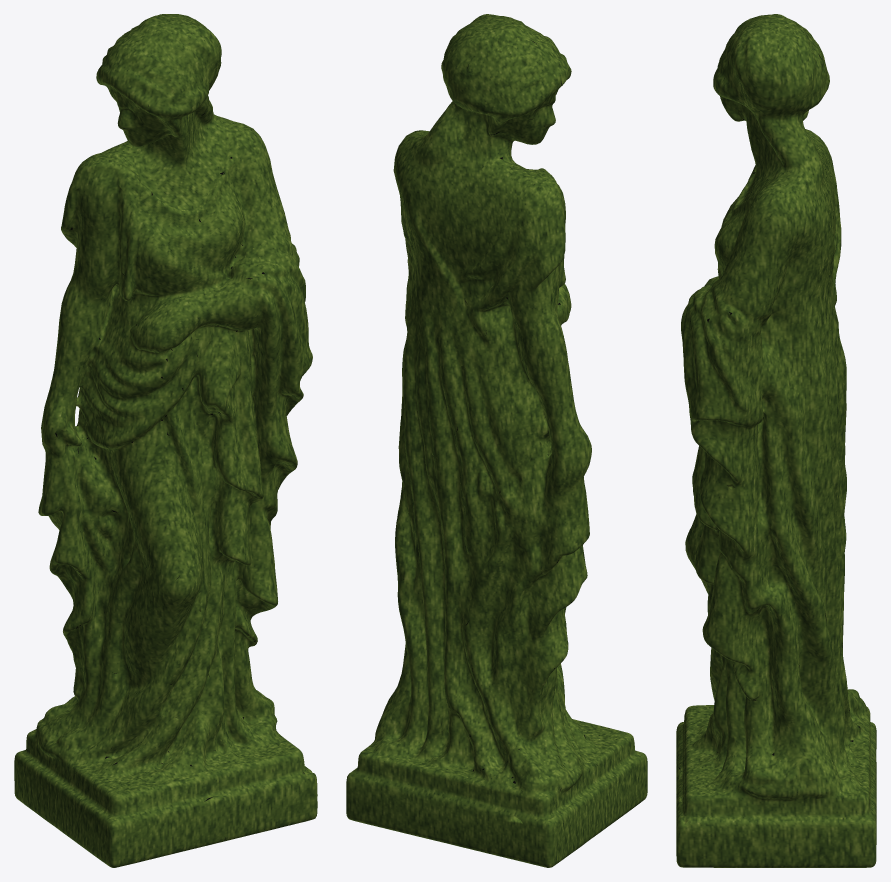
Rendered from woman-rose-hedge.glb.
3 views of the same model, side by side, from view 1: azimuth 30°, elevation 25°; view 2: azimuth 150°, elevation 25°; view 3: azimuth 270°, elevation 25° (orthographic).
Parts seen in each view (by area): view 1: woman-rose - original generated mesh; view 2: woman-rose - original generated mesh; view 3: woman-rose - original generated mesh.
Part boxes in pixels (x1,y1,x2,y2): woman-rose - original generated mesh: [14, 14, 317, 867]; woman-rose - original generated mesh: [346, 14, 647, 867]; woman-rose - original generated mesh: [676, 14, 876, 867].
Size of the model in its own units: 0.8717 by 3 by 0.6839.
1 material, 1 textured.
